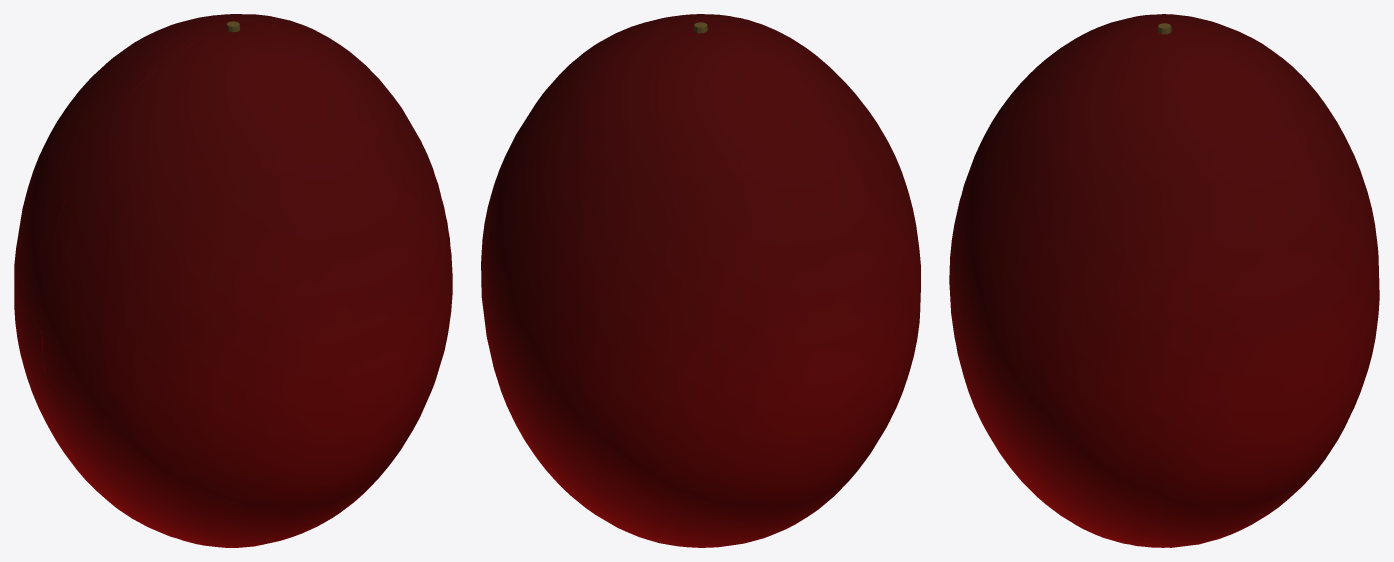
Rendered from prune-rouge.glb.
3 views of the same model, side by side, from view 1: azimuth 30°, elevation 25°; view 2: azimuth 150°, elevation 25°; view 3: azimuth 270°, elevation 25° (orthographic).
Parts seen in each view (by area): view 1: moitie_B_peau, entier_peau, moitie_A_peau; view 2: moitie_A_peau, entier_peau, moitie_B_peau; view 3: entier_peau, moitie_B_peau, moitie_A_peau.
Boxes of the visible parts, x1,y1,x2,y2 form: moitie_B_peau: (41, 25, 452, 547); entier_peau: (14, 14, 452, 547); moitie_A_peau: (14, 14, 336, 498); moitie_A_peau: (481, 26, 892, 547); entier_peau: (481, 14, 920, 547); moitie_B_peau: (598, 14, 920, 500); entier_peau: (949, 14, 1379, 547); moitie_B_peau: (949, 14, 1164, 547); moitie_A_peau: (1164, 14, 1379, 547).
Bounding box in the file's own units: 1.6 × 2.02 × 1.56.
